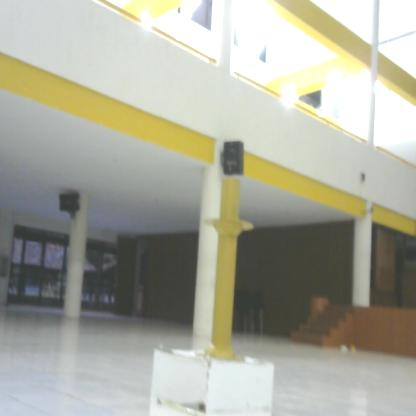pole: (191, 179, 254, 367)
